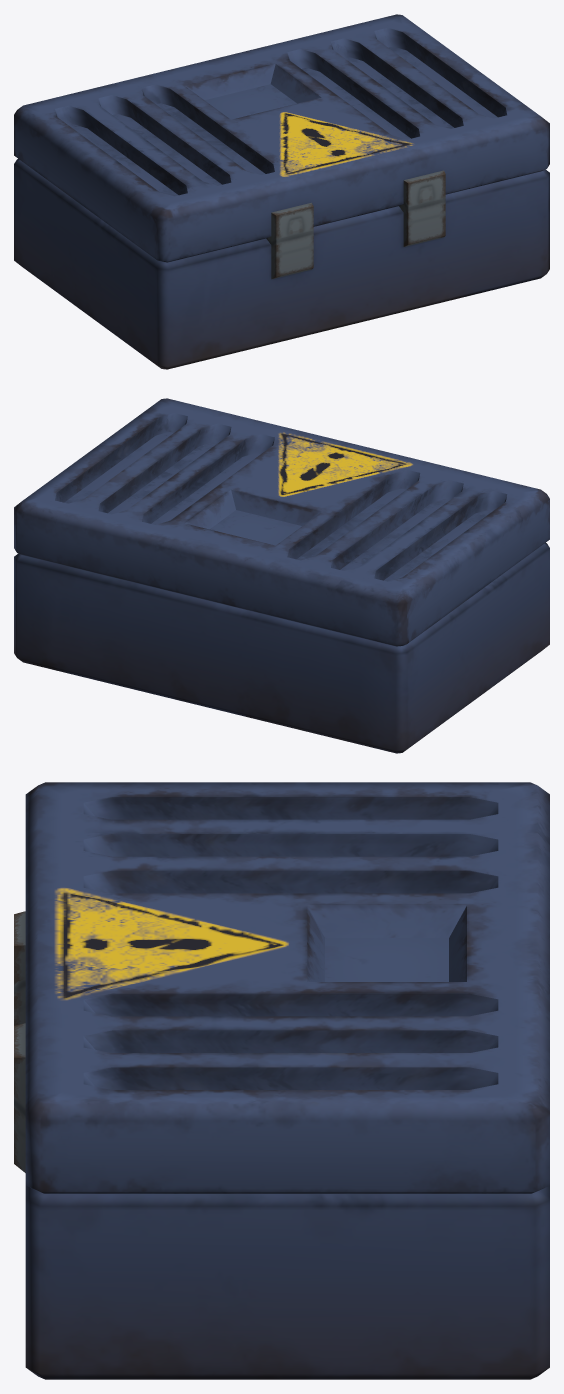
The model's file is box_for_savings_LP.fbx.
The picture shows the model from 3 angles, top to bottom: view 1: azimuth 30°, elevation 25°; view 2: azimuth 150°, elevation 25°; view 3: azimuth 270°, elevation 25°; orthographic projection. The views are drawn at different scales.
Visible parts, largest first — view 1: LP_rivets_geo; view 2: LP_rivets_geo; view 3: LP_rivets_geo.
Part boxes in pixels (box(x1,y1,x2,y2)): LP_rivets_geo: box(14, 14, 549, 369); LP_rivets_geo: box(14, 398, 549, 753); LP_rivets_geo: box(14, 782, 549, 1379).
Size of the model in its own units: 124 by 47.64 by 84.17.
Materials: 1 (1 with a texture image).
